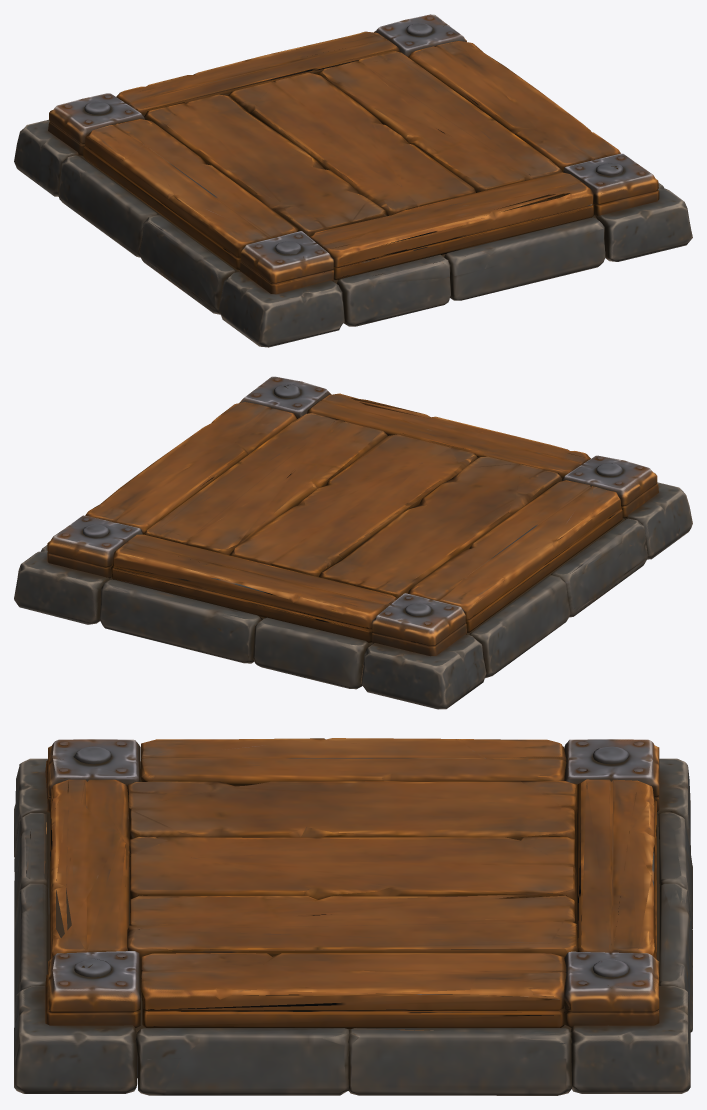
Rendered from Pressure_plate_unpressed.glb.
3 renders of one model, top to bottom at view 1: azimuth 30°, elevation 25°; view 2: azimuth 150°, elevation 25°; view 3: azimuth 270°, elevation 25°, orthographic. The views are drawn at different scales.
Parts seen in each view (by area): view 1: geometry_0; view 2: geometry_0; view 3: geometry_0.
Part boxes in pixels (x1,y1,x2,y2): geometry_0: (14, 14, 692, 347); geometry_0: (14, 376, 692, 709); geometry_0: (14, 738, 692, 1095).
Bounding box in the file's own units: 0.9526 × 0.1475 × 0.9512.
Materials: 1 (1 with a texture image).
